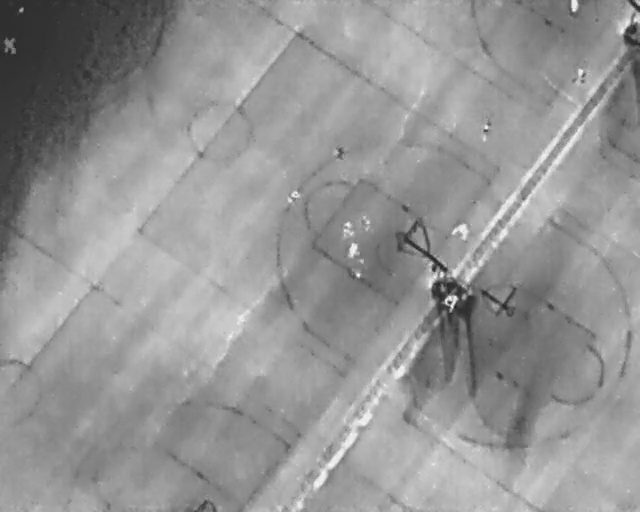Person: (283, 187, 304, 208), (440, 291, 458, 315), (450, 221, 470, 242), (479, 118, 493, 144), (345, 241, 363, 261), (3, 37, 17, 57), (342, 219, 354, 240), (573, 66, 586, 85), (361, 215, 372, 233), (569, 0, 582, 15), (333, 145, 345, 160), (350, 268, 362, 280)
